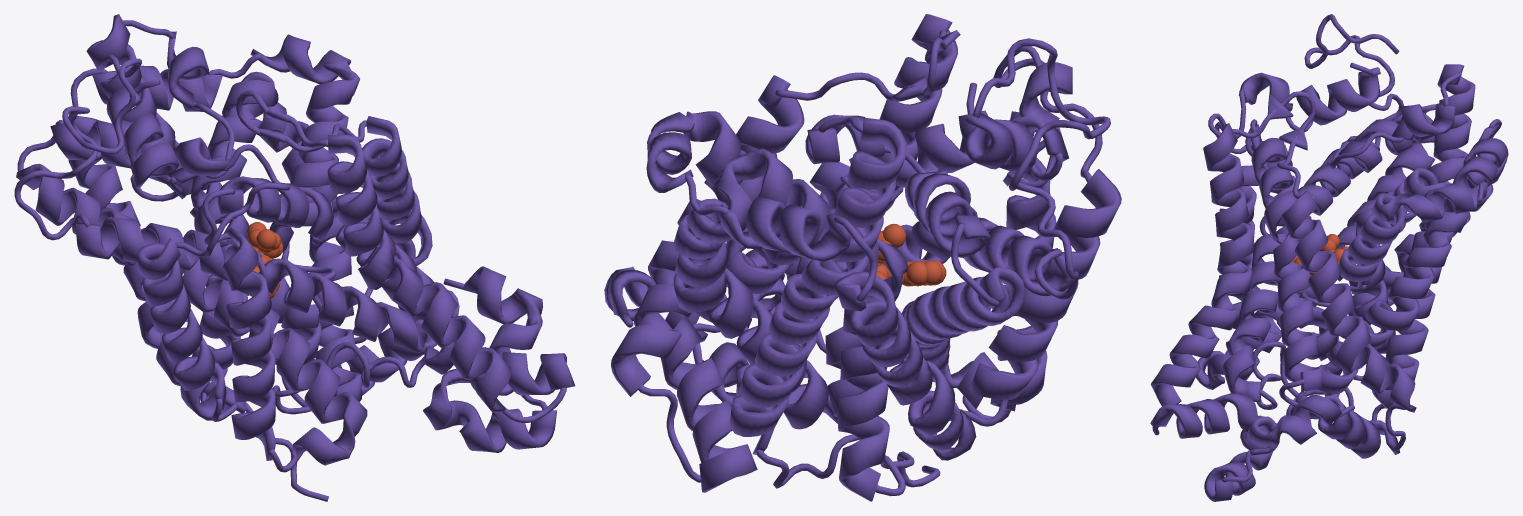
The model's file is dat-cocaine-9eo4.glb.
The picture shows the model from 3 angles, left to right: view 1: azimuth 30°, elevation 25°; view 2: azimuth 150°, elevation 25°; view 3: azimuth 270°, elevation 25°; orthographic projection. The views are drawn at different scales.
Parts seen in each view (by area): view 1: receptor, ligand; view 2: receptor, ligand; view 3: receptor, ligand.
Part boxes in pixels (x1,y1,x2,y2): receptor: [14, 14, 575, 501]; ligand: [247, 222, 283, 298]; receptor: [604, 14, 1121, 501]; ligand: [876, 224, 946, 286]; receptor: [1150, 14, 1508, 501]; ligand: [1292, 234, 1355, 275].
Bounding box in the file's own units: 6.83 × 6.25 × 5.58.
